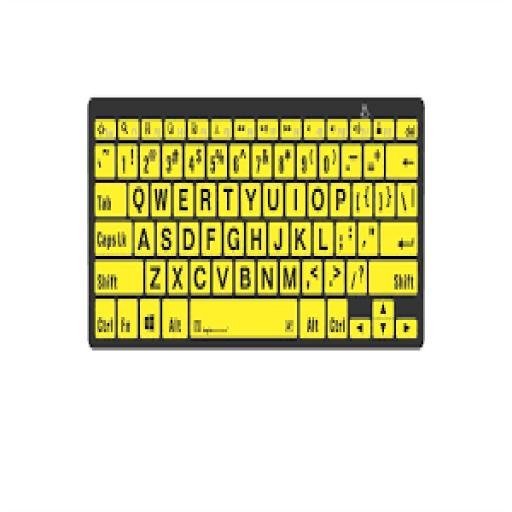KEYBOARD-2: (89, 98, 422, 344)
